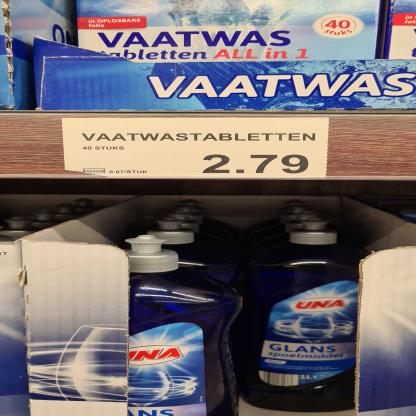prtg: (62, 119, 330, 180)
